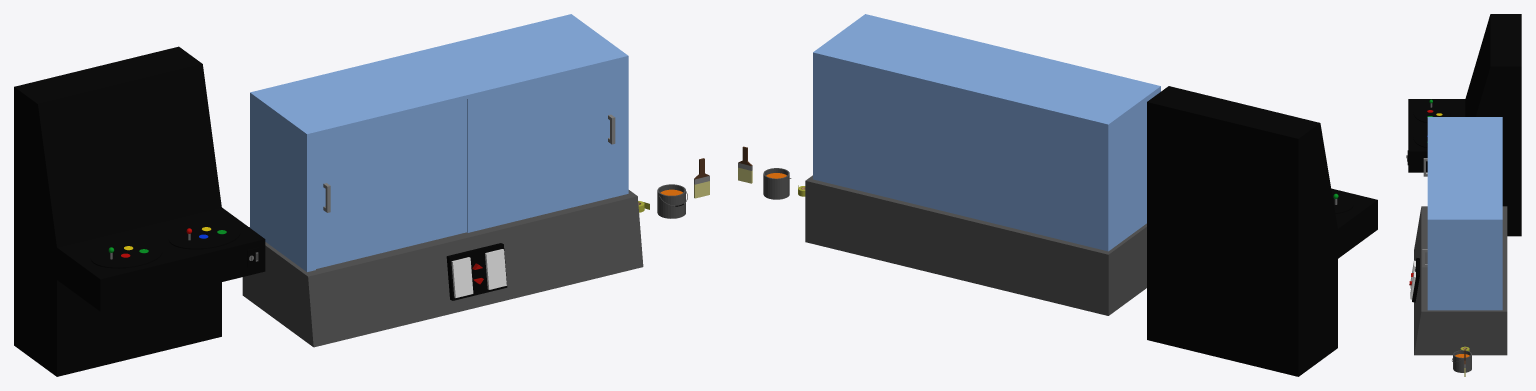
The model's file is RubberRubberDuck3D.fbx.
3 views of the same model, side by side, from view 1: azimuth 30°, elevation 25°; view 2: azimuth 150°, elevation 25°; view 3: azimuth 270°, elevation 25° (orthographic). The views are drawn at different scales.
Parts seen in each view (by area): view 1: GameMachine, Incubator, IncubatorRightDoor, IncubatorLeftDoor, Paint; view 2: Incubator, GameMachine, Paint; view 3: Incubator, GameMachine, Paint.
Boxes of the visible parts, bbox=[...] form: GameMachine: bbox=[14, 46, 265, 376]; Incubator: bbox=[242, 14, 643, 347]; IncubatorRightDoor: bbox=[467, 62, 619, 232]; IncubatorLeftDoor: bbox=[316, 99, 466, 268]; Paint: bbox=[657, 184, 687, 218]; Incubator: bbox=[805, 14, 1160, 315]; GameMachine: bbox=[1147, 86, 1377, 376]; Paint: bbox=[763, 168, 791, 199]; Incubator: bbox=[1409, 117, 1507, 355]; GameMachine: bbox=[1406, 14, 1521, 236]; Paint: bbox=[1452, 350, 1471, 372].
Bounding box in the file's own units: 1978 × 750 × 462.
